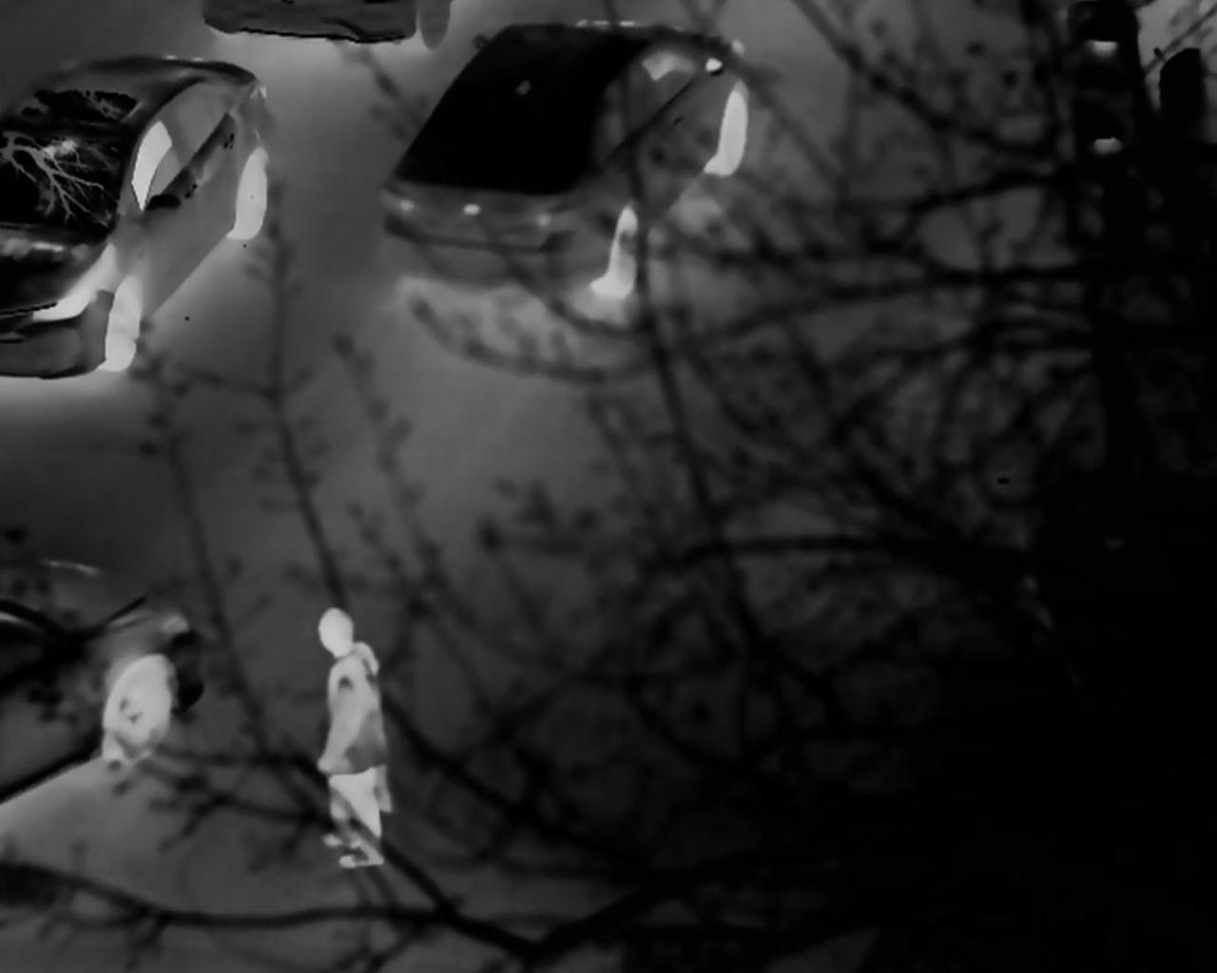person: (313, 604, 392, 859)
